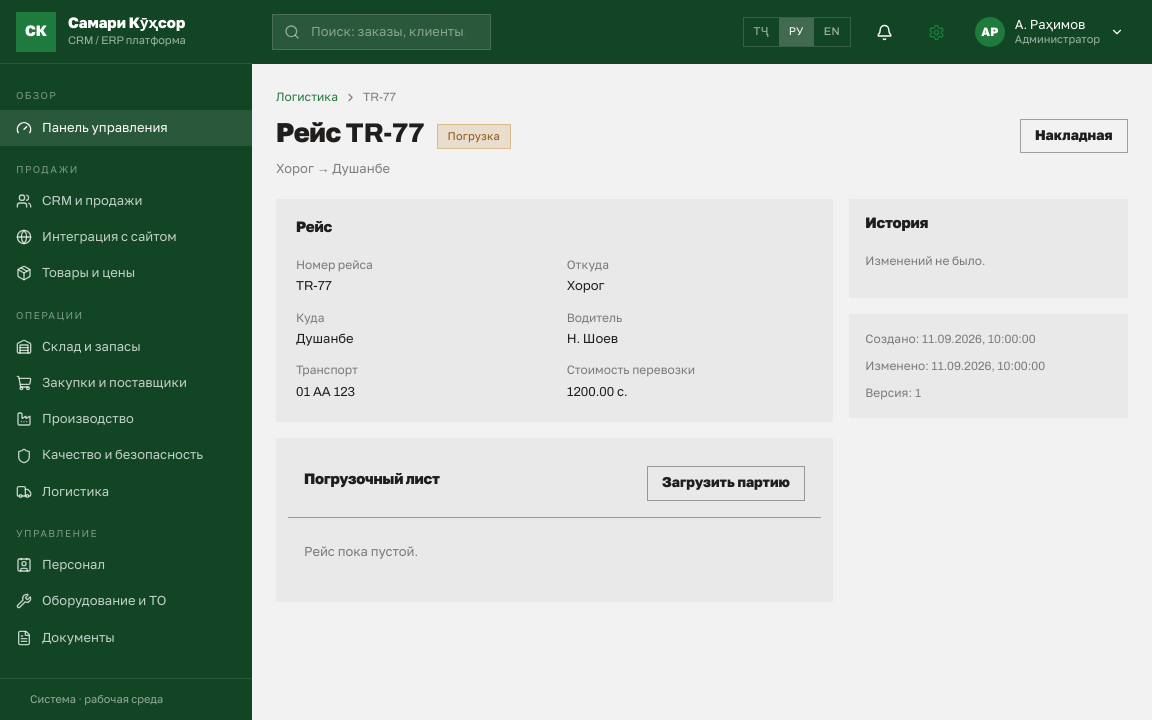
Логистика — trip detail › says so plainly when nothing has been released yet
Expected: the element with test id "detail-view" is shown, 276,88 -> 1128,602
What coordinates should you click on to do the following:
click the button with test id "toggle-load-form"
I would click on:
 (726, 484)
Its box is 647,466 -> 805,501.
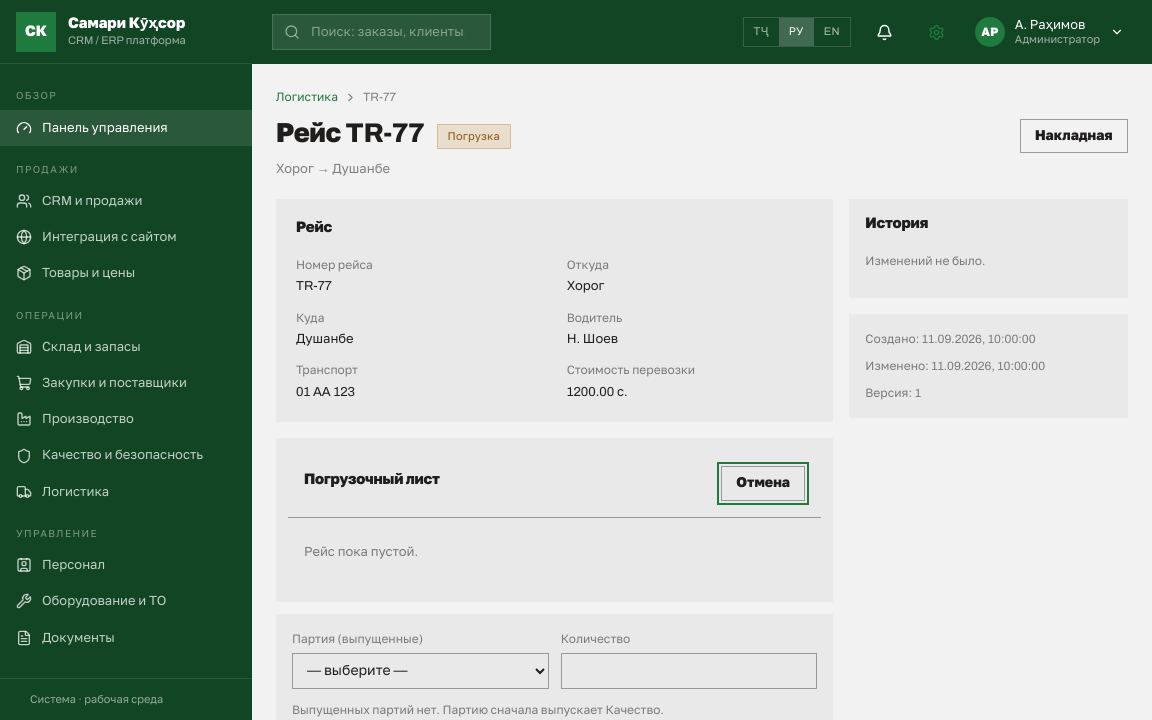
Now the text with test id "no-released" shows "Выпущенных партий нет", box 292,703 -> 664,717
